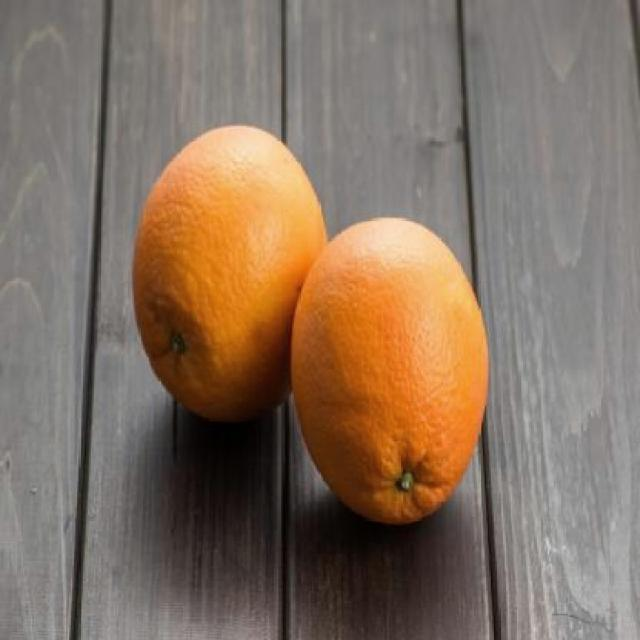Jeruk Sudah Matang: (292, 217, 491, 525), (133, 125, 330, 430)
